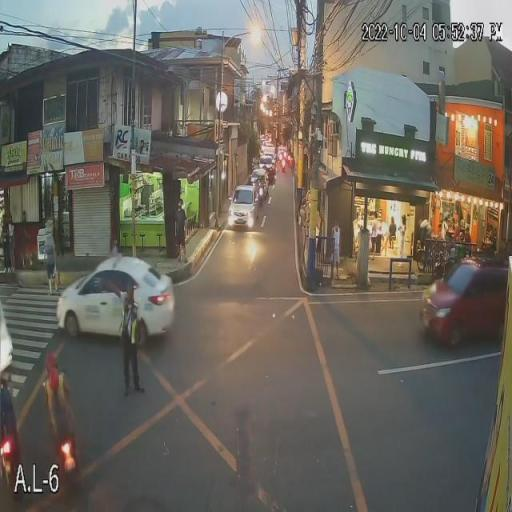helmet: (42, 349, 64, 370)
motorcycle: (45, 428, 84, 487), (0, 445, 25, 489)
rider: (42, 349, 79, 436), (0, 375, 15, 438)
